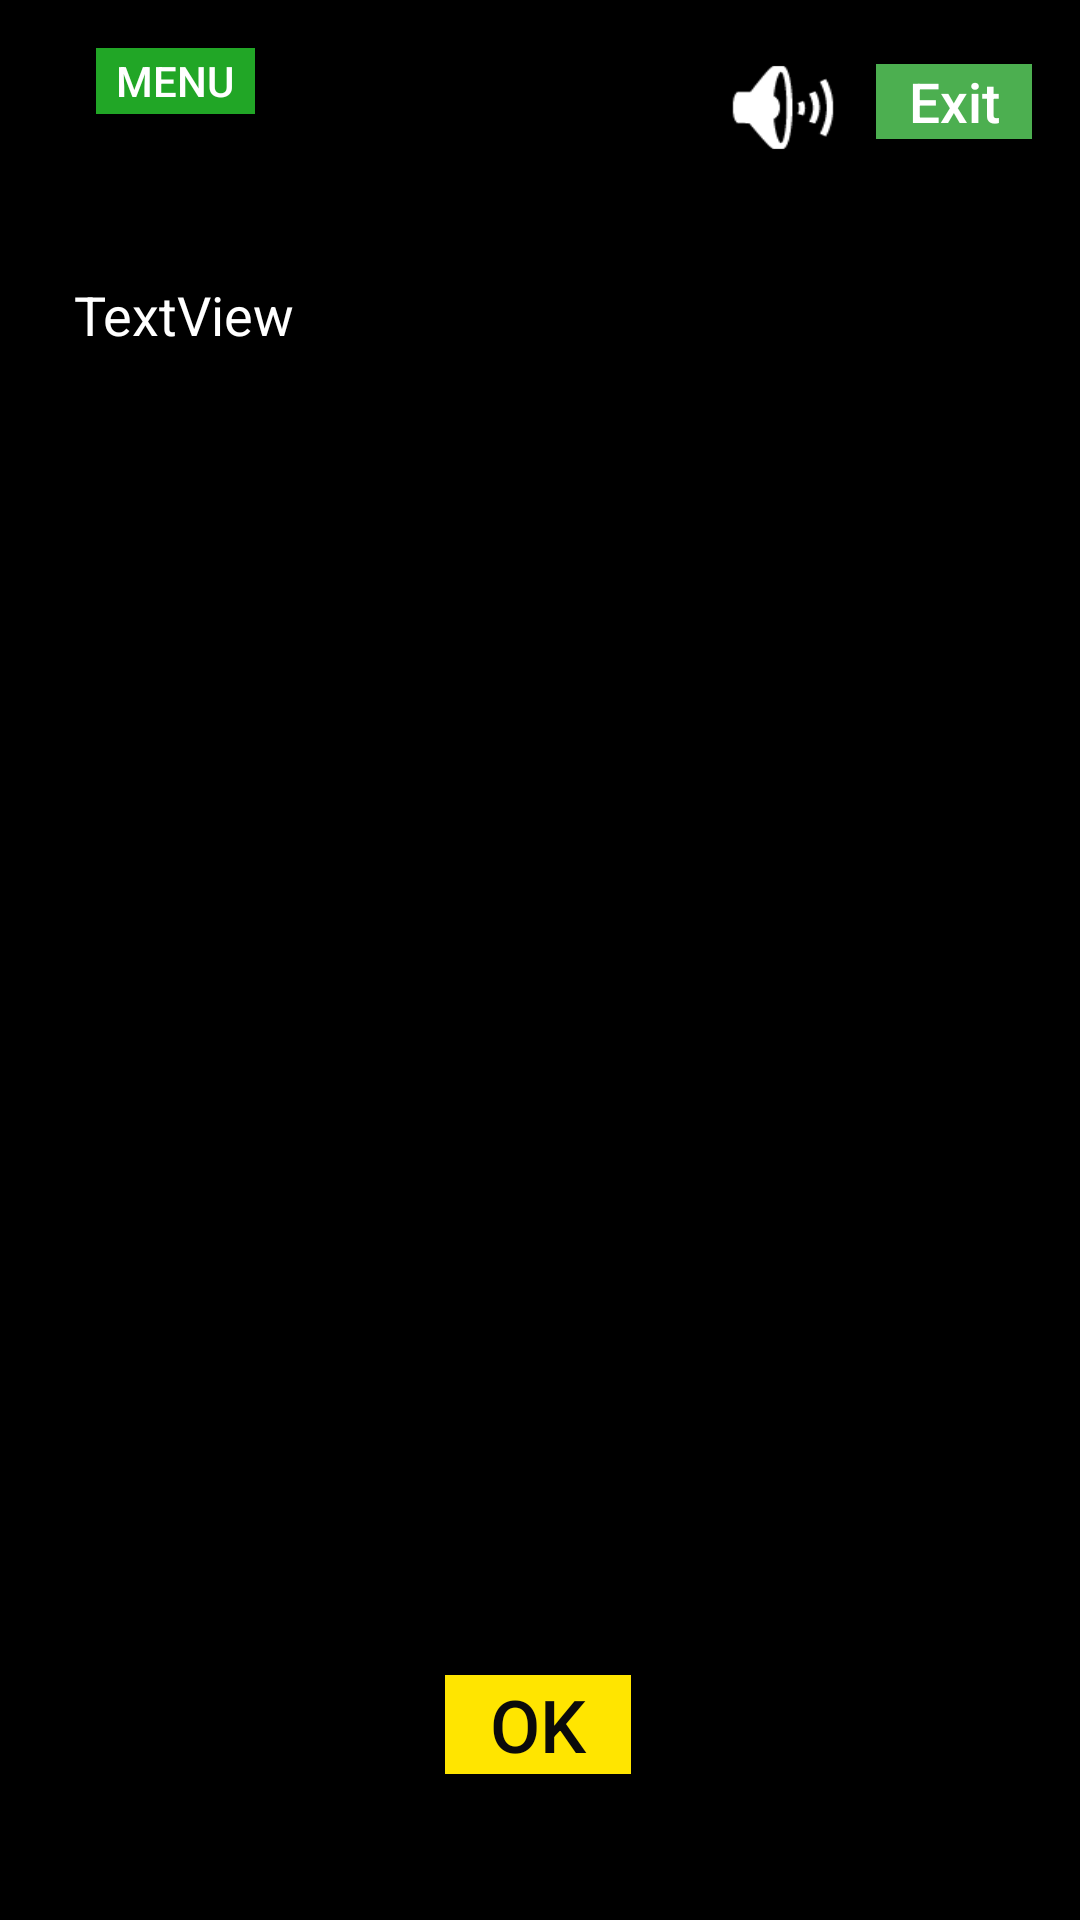

Icon bounding boxes for this 1080x1920 phone screenshot, format (x1, y1, x2, y2):
lock silent mode off: (732, 66, 834, 149)
